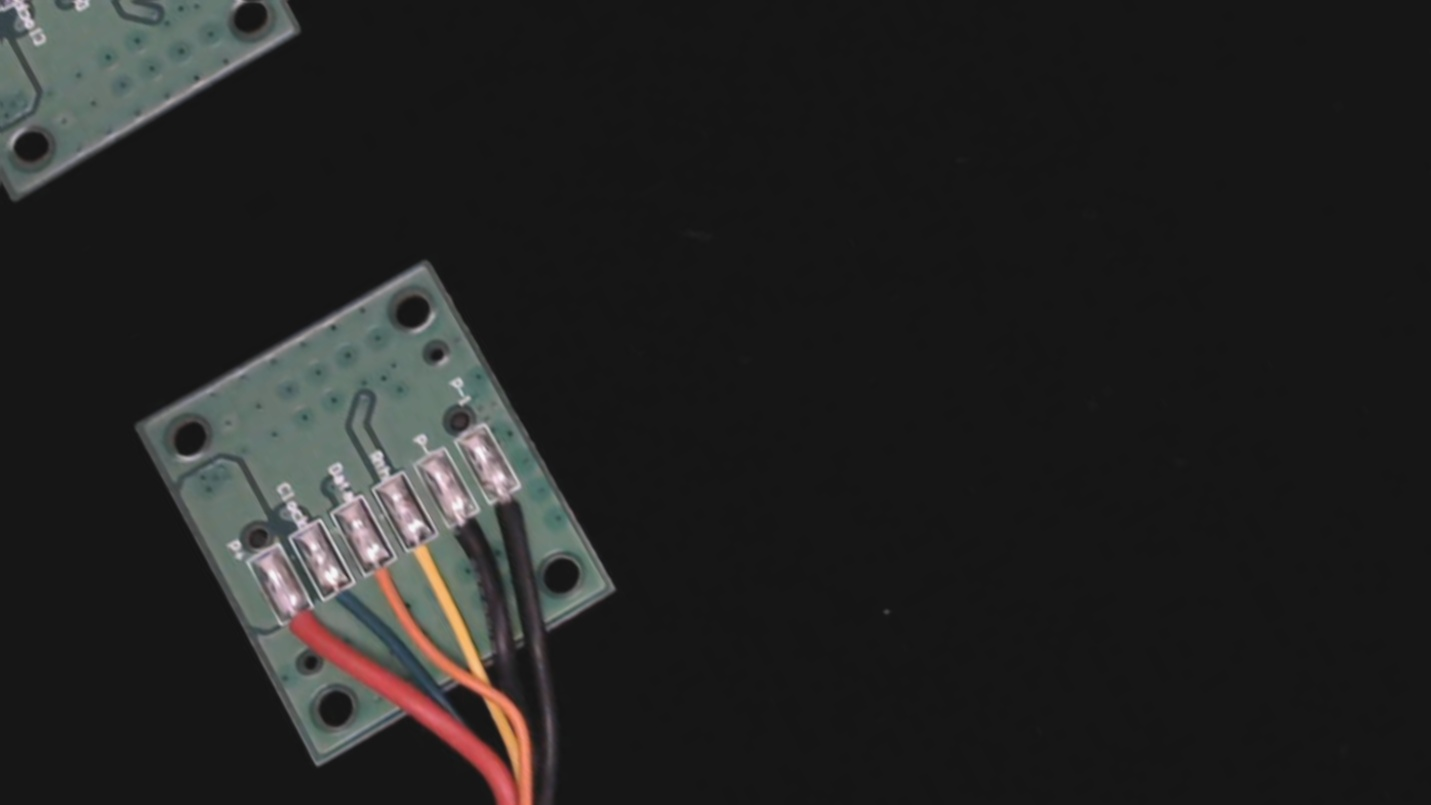Black: (426, 483, 513, 580)
Black1: (468, 461, 550, 551)
Green: (303, 554, 387, 647)
Orange: (345, 533, 428, 627)
Red: (258, 579, 343, 673)
Yellow: (384, 507, 471, 605)
